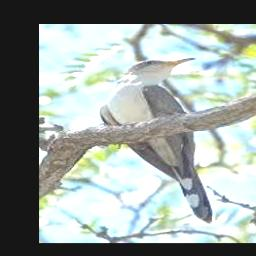Cuckoo: (100, 57, 214, 223)
